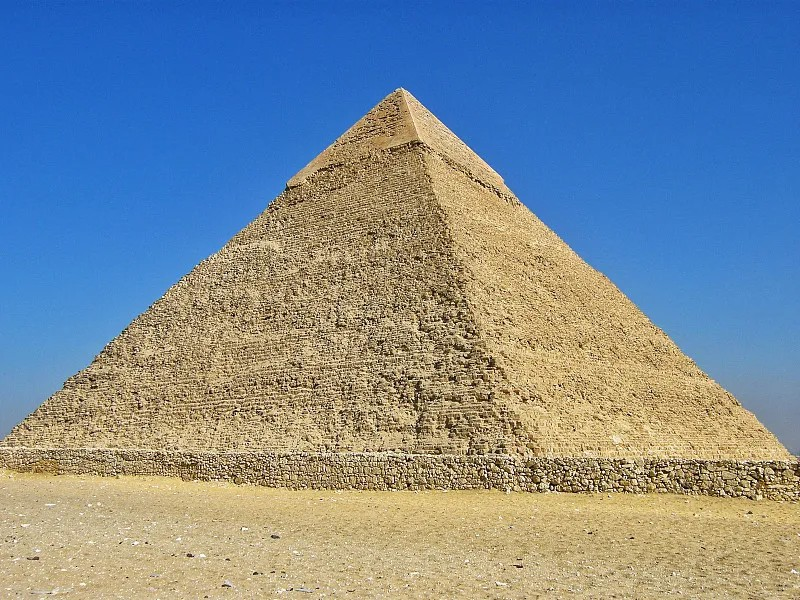Pyramid: (1, 88, 796, 456)
